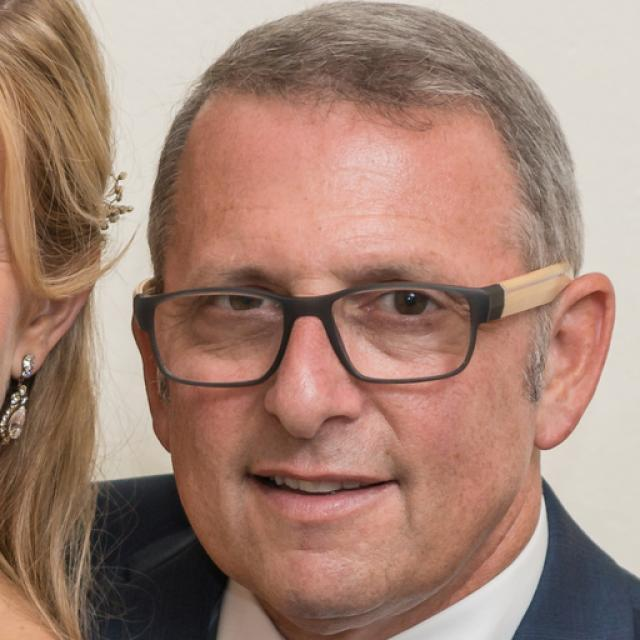content: (150, 100, 542, 612)
